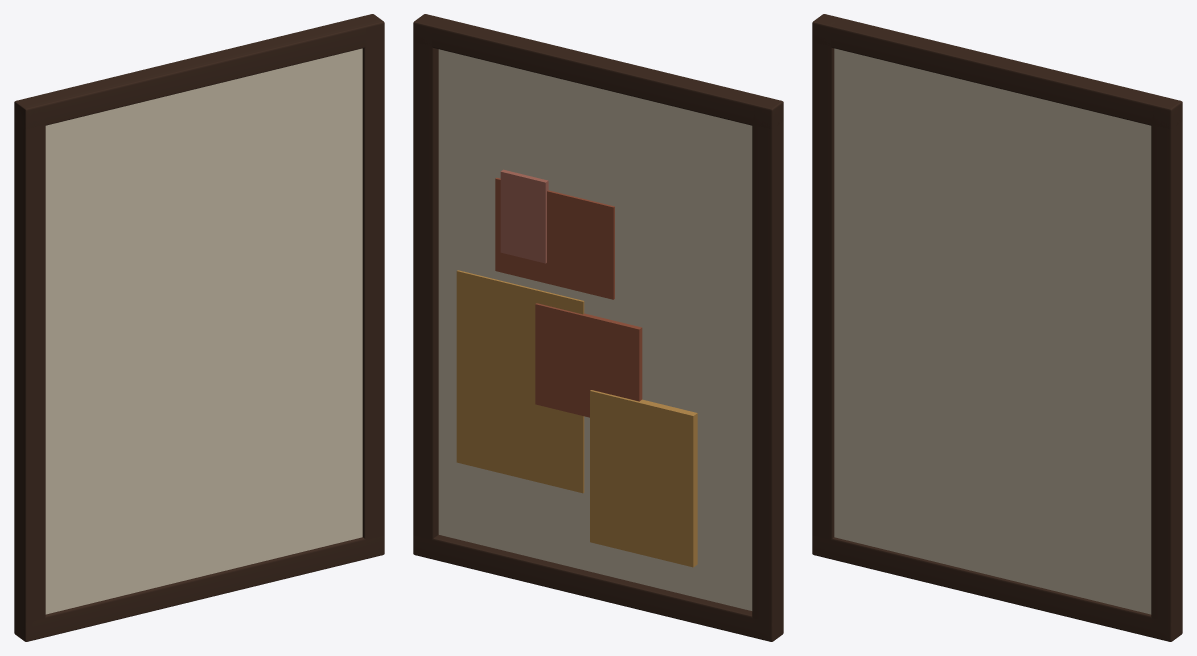
File: prop_wall_art_b.glb
3 views of the same model, side by side, from view 1: azimuth 30°, elevation 25°; view 2: azimuth 150°, elevation 25°; view 3: azimuth 330°, elevation 25° (orthographic).
Parts seen in each view (by area): view 1: Art; view 2: Art; view 3: Art.
Part boxes in pixels (x1,y1,x2,y2): Art: (14, 14, 384, 641); Art: (413, 14, 783, 641); Art: (812, 14, 1182, 641).
Bounding box in the file's own units: 0.6 × 0.85 × 0.035.
